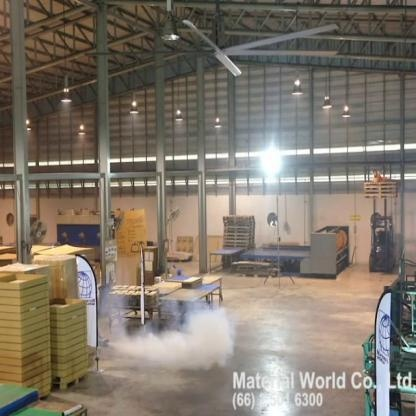smoke: (107, 285, 234, 376)
